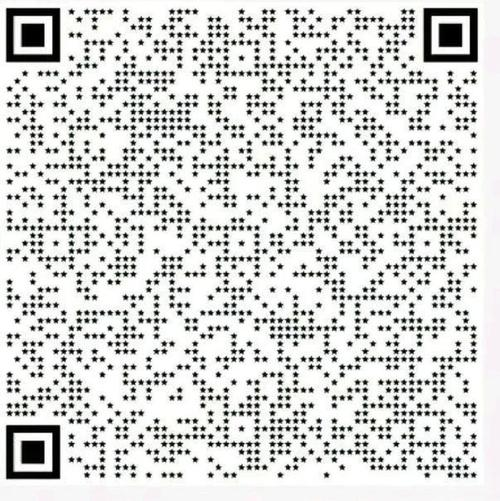QRCode: (1, 5, 500, 496)
